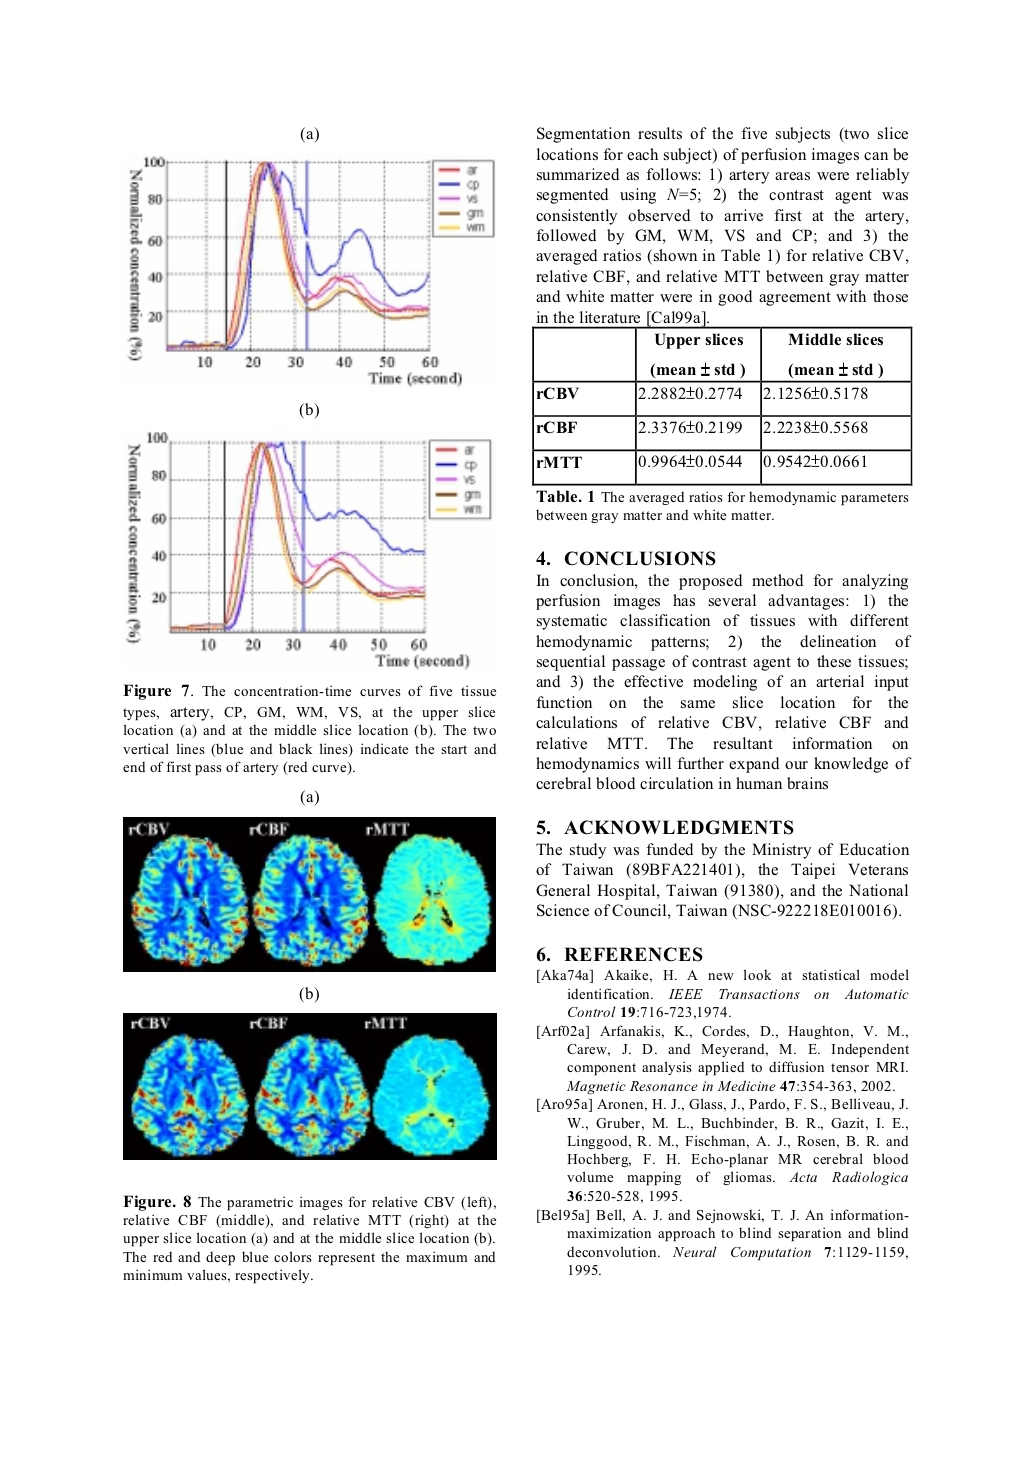Table: (532, 310, 912, 486)
figure: (125, 431, 491, 670), (127, 156, 494, 386), (123, 815, 495, 972), (123, 1011, 497, 1160)
